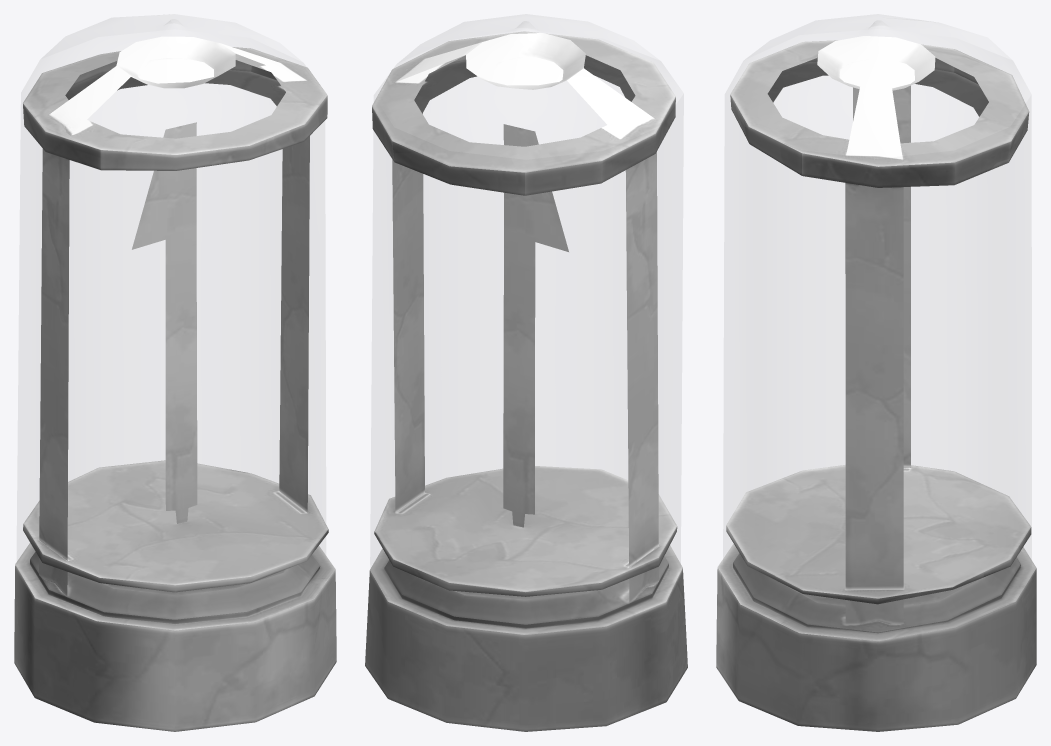
Rendered from obj_num01_alt.gltf.
The picture shows the model from 3 angles, left to right: view 1: azimuth 30°, elevation 25°; view 2: azimuth 150°, elevation 25°; view 3: azimuth 270°, elevation 25°; orthographic projection.
Parts seen in each view (by area): view 1: obj_num01_alt, obj_num01_glass; view 2: obj_num01_alt, obj_num01_glass; view 3: obj_num01_alt, obj_num01_glass.
Part boxes in pixels (x1,y1,x2,y2): obj_num01_alt: (14,36,336,731); obj_num01_glass: (17,14,325,567); obj_num01_alt: (365,31,687,731); obj_num01_glass: (370,14,683,567); obj_num01_alt: (716,36,1036,731); obj_num01_glass: (723,14,1031,566).
Size of what is drawn, in the model's own units: 0.3241 by 0.7158 by 0.3219.
2 materials, 1 textured.
